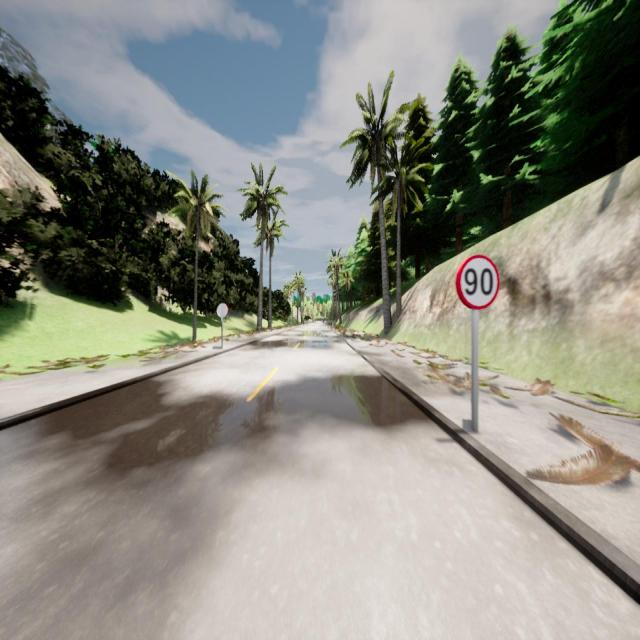Traffic_Signs: (456, 255, 499, 309), (216, 303, 228, 317)
